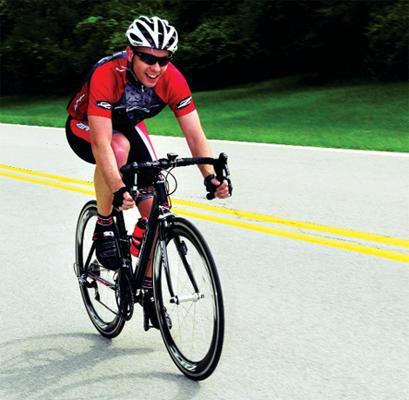person: (63, 15, 234, 333)
